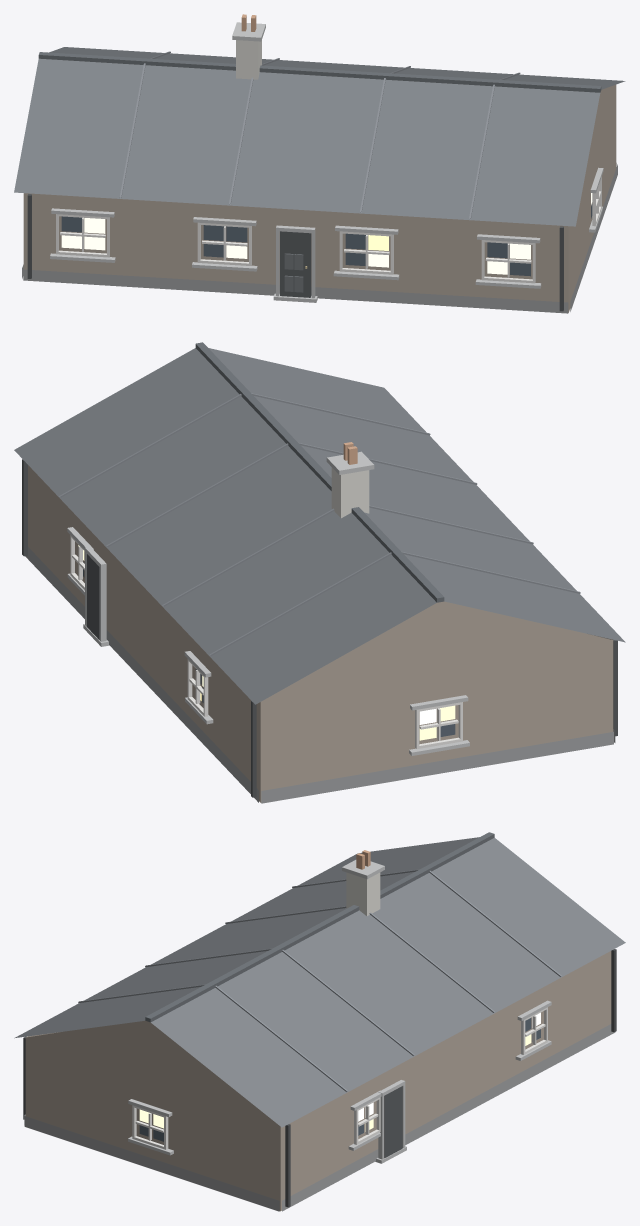
3 views of the same model, one above another, from view 1: azimuth 30°, elevation 25°; view 2: azimuth 150°, elevation 25°; view 3: azimuth 270°, elevation 25° (orthographic). The views are drawn at different scales.
Visible parts, largest first — view 1: slate, harl_brown, plinth, stone_band, windows, slate_dk, frame, slate_lt, door_dark, chim_render, pipe, door_dark_p; view 2: slate, harl_brown, plinth, slate_lt, stone_band, slate_dk, frame, pipe, chim_render, door_dark, windows; view 3: slate, harl_brown, plinth, slate_dk, slate_lt, stone_band, frame, pipe, chim_render, door_dark, windows.
Boxes of the visible parts, box(x1,y1,x2,y2) form: slate: box(14, 47, 625, 226); harl_brown: box(23, 84, 616, 312); plinth: box(22, 163, 617, 313); stone_band: box(50, 22, 603, 302); windows: box(61, 193, 592, 276); slate_dk: box(38, 52, 601, 92); frame: box(56, 176, 601, 283); slate_lt: box(119, 51, 520, 219); door_dark: box(280, 231, 311, 297); chim_render: box(236, 40, 261, 79); pipe: box(27, 194, 563, 311); door_dark_p: box(284, 253, 303, 292); slate: box(14, 348, 625, 704); harl_brown: box(28, 465, 613, 802); plinth: box(25, 547, 615, 803); slate_lt: box(59, 393, 580, 656); stone_band: box(67, 451, 469, 755); slate_dk: box(195, 342, 444, 602); frame: box(70, 535, 462, 748); pipe: box(22, 459, 617, 797); chim_render: box(331, 467, 369, 518); door_dark: box(86, 554, 99, 639); windows: box(78, 545, 455, 740); slate: box(14, 837, 625, 1127); harl_brown: box(25, 951, 611, 1211); plinth: box(24, 1024, 615, 1211); slate_dk: box(145, 832, 494, 1022); slate_lt: box(78, 869, 561, 1091); stone_band: box(128, 860, 551, 1163); frame: box(132, 1007, 547, 1149); pipe: box(23, 949, 616, 1207); chim_render: box(346, 872, 380, 915); door_dark: box(384, 1086, 402, 1157); windows: box(139, 1012, 540, 1141).
Bounding box in the file's own units: 18.93 × 6.54 × 17.84.
